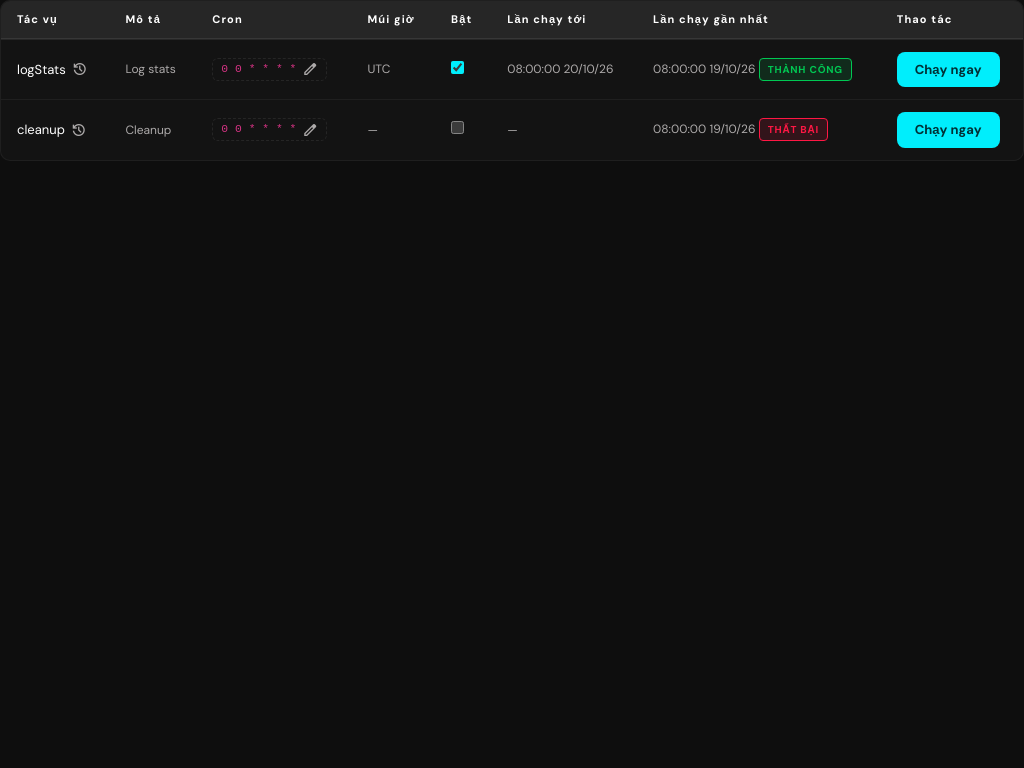
AdminJobsTab › history modal shows an empty state, a load error, and closes on the X
The width and height of the screenshot is (1024, 768).
What coordinates should you click on to do the following:
click the button with aria-label "Lịch sử chạy của logStats"
I would click on:
 (52, 69)
Its box is [17,60,88,79].
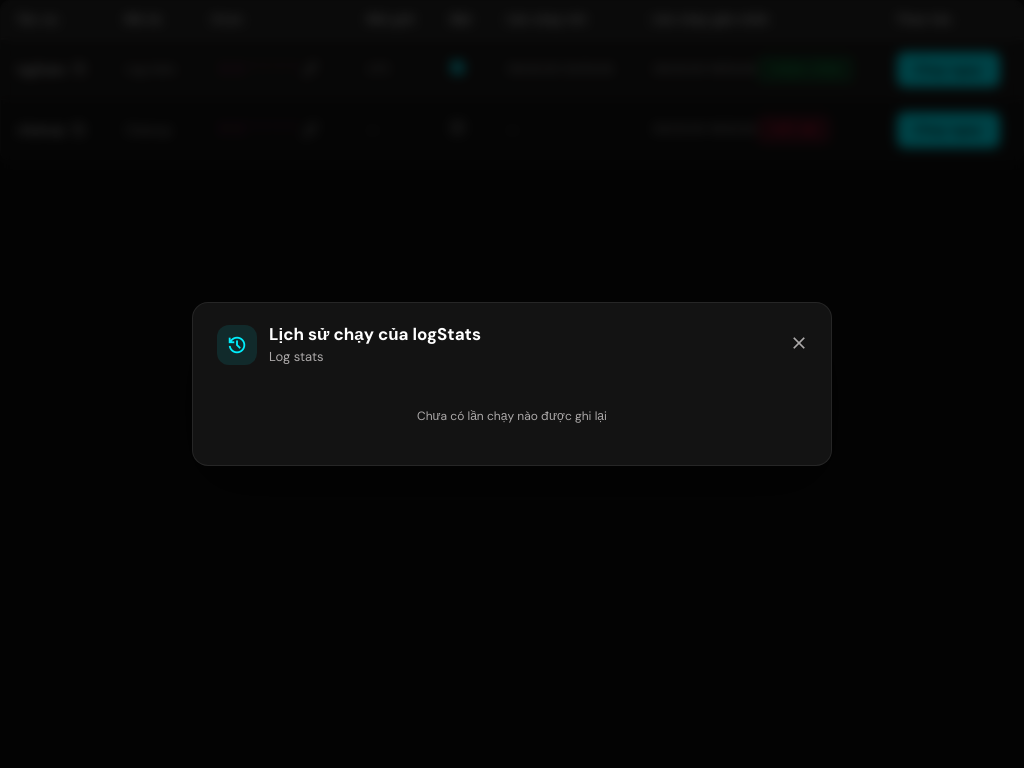
Result: the text "Chưa có lần chạy nào được ghi lại" is shown at [417,408,607,424]
What coordinates should you click on to do the following:
click the button named "Đóng"
I would click on:
 (799, 343)
Its box is [783,327,815,359].
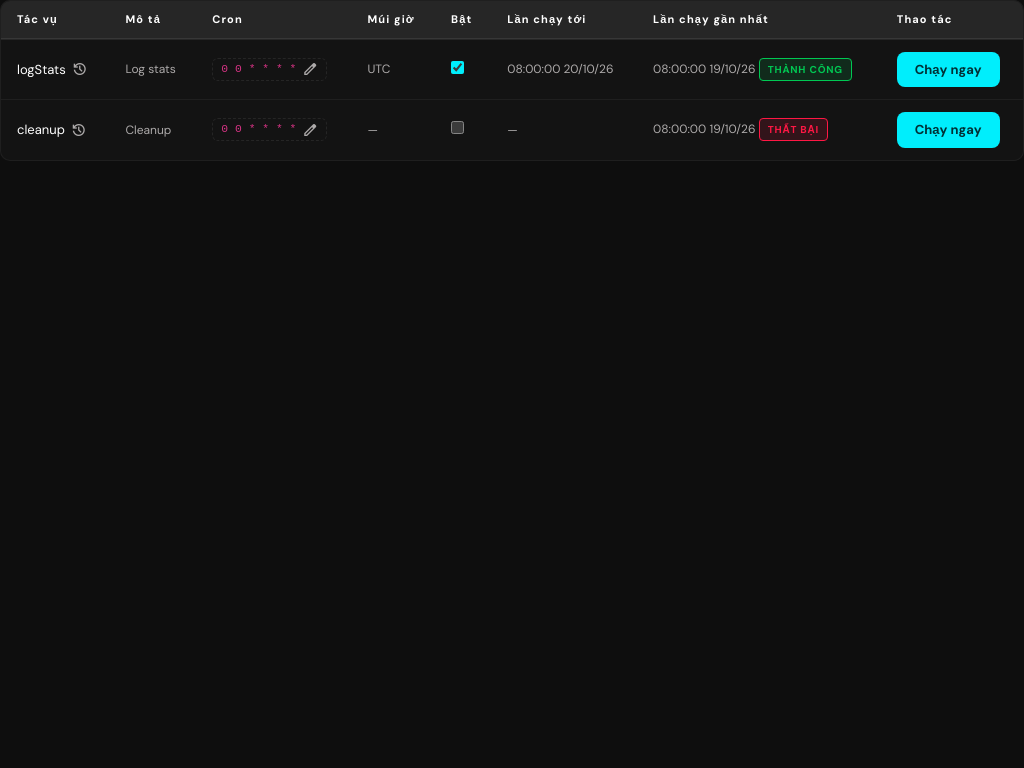
Result: the dialog is gone
What coordinates should you click on to do the following:
click the button with aria-label "Lịch sử chạy của cleanup"
I would click on:
 (52, 130)
Its box is [17,120,87,140].
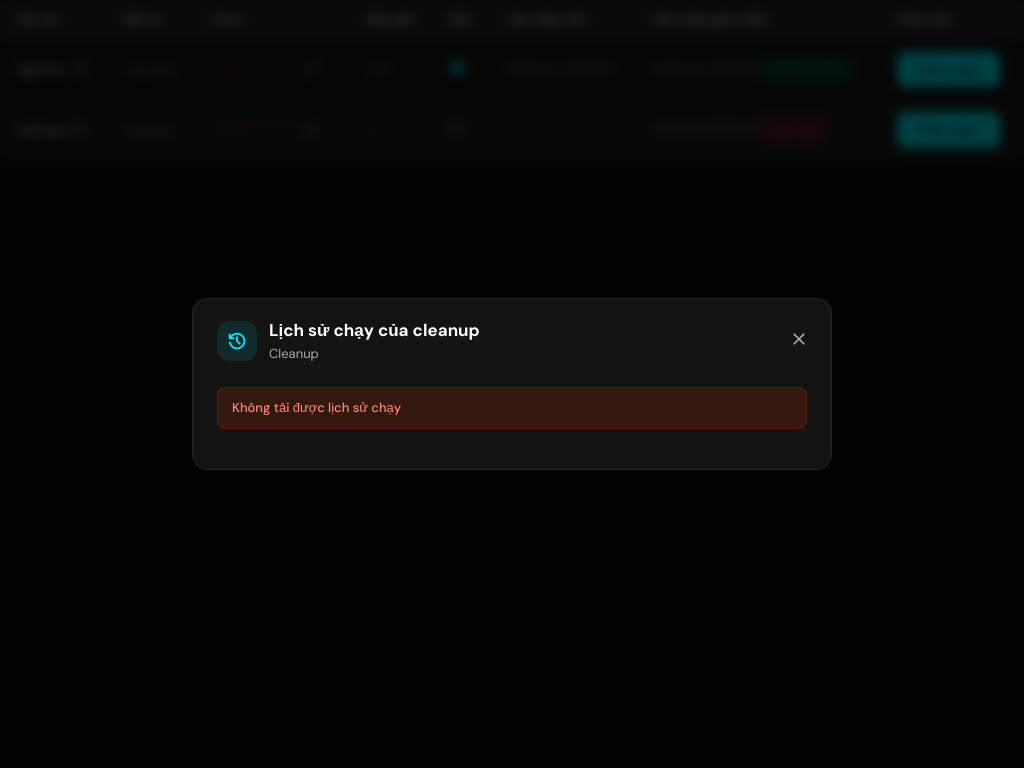
Result: the text "Không tải được lịch sử chạy" is shown at [217,387,807,428]
